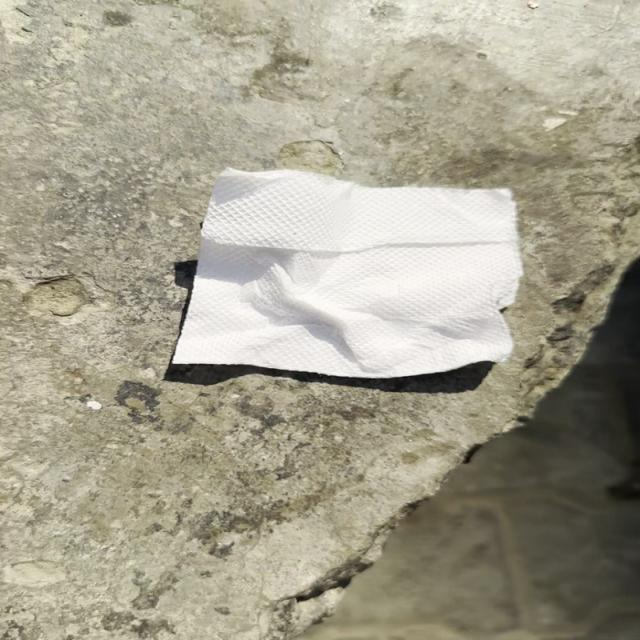tissue: (160, 162, 534, 380)
